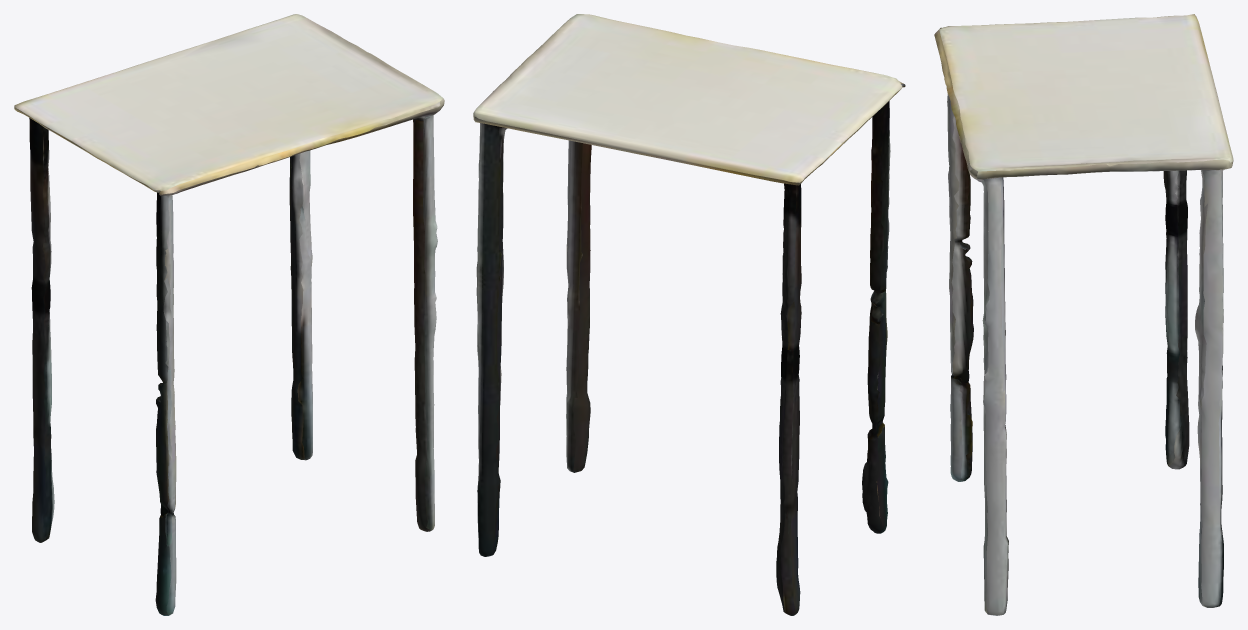
The picture shows the model from 3 angles, left to right: view 1: azimuth 30°, elevation 25°; view 2: azimuth 150°, elevation 25°; view 3: azimuth 270°, elevation 25°; orthographic projection. The views are drawn at different scales.
Visible parts, largest first — view 1: world; view 2: world; view 3: world.
Part boxes in pixels (x1,y1,x2,y2): world: (14, 14, 444, 615); world: (473, 14, 905, 615); world: (934, 14, 1233, 615).
Bounding box in the file's own units: 0.5009 × 0.6503 × 0.3871.
1 material, 1 textured.
